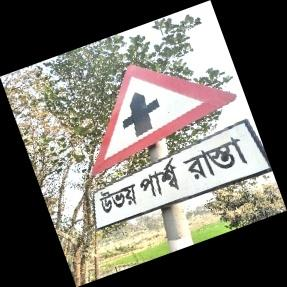Crossroad: (90, 64, 287, 231)
